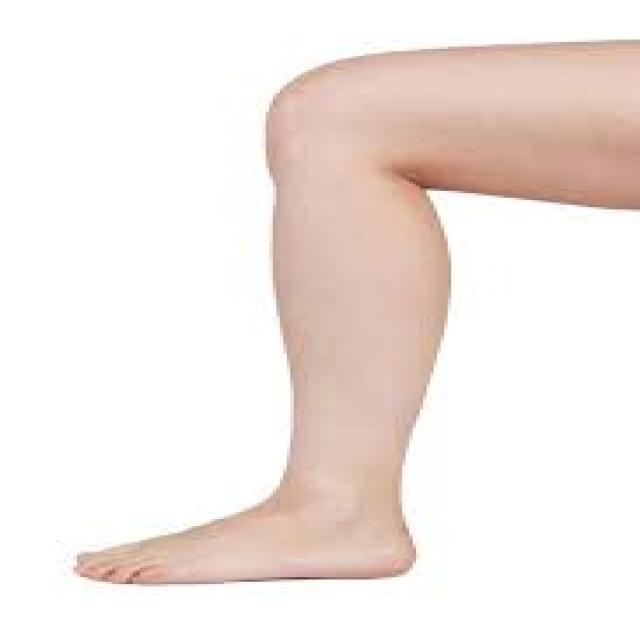piel: (61, 38, 637, 591)
